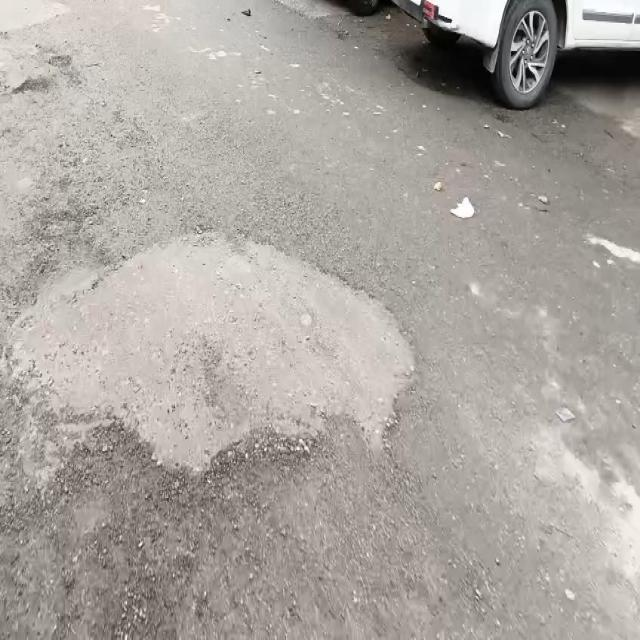road-pothole: (17, 206, 414, 533)
